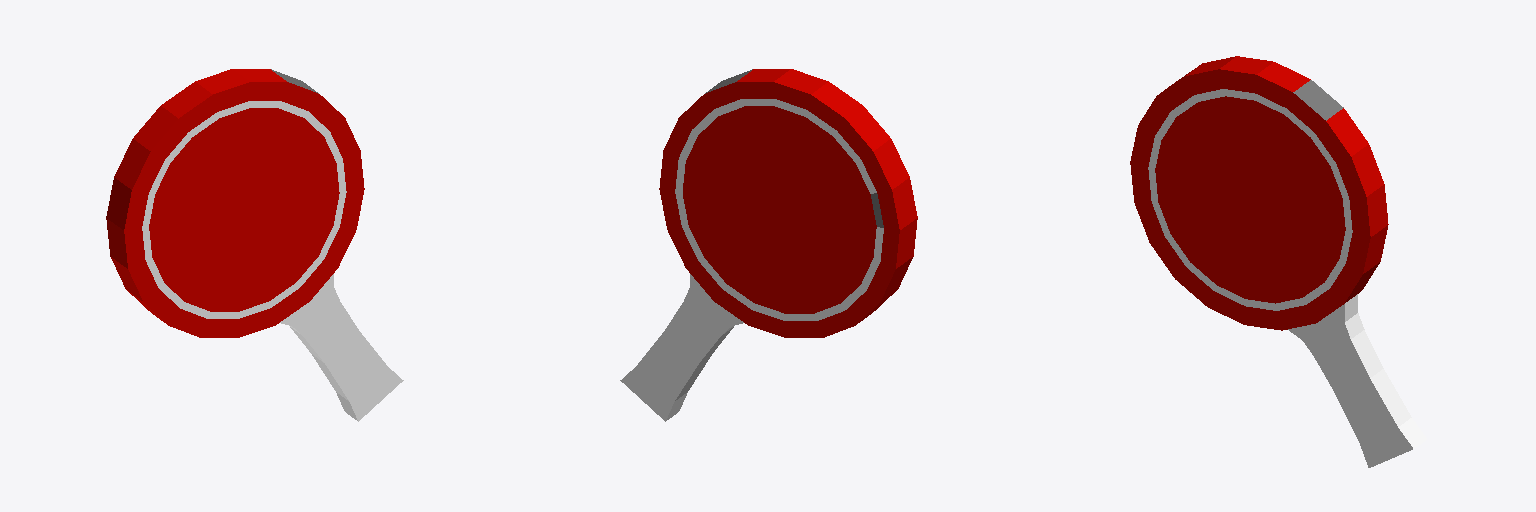
File: mouse.obj
3 views of the same model, side by side, from view 1: azimuth 30°, elevation 25°; view 2: azimuth 150°, elevation 25°; view 3: azimuth 330°, elevation 25° (orthographic).
Visible parts, largest first — view 1: pCylinder1, pCylinder1 pCube1; view 2: pCylinder1, pCylinder1 pCube1; view 3: pCylinder1, pCylinder1 pCube1.
Part boxes in pixels (x1,y1,x2,y2): pCylinder1: (106,69,364,337); pCylinder1 pCube1: (280,274,403,421); pCylinder1: (659,69,917,337); pCylinder1 pCube1: (620,274,743,421); pCylinder1: (1130,56,1388,330); pCylinder1 pCube1: (1288,294,1426,467).
Size of the model in its own units: 1.67 by 2.08 by 0.1836.